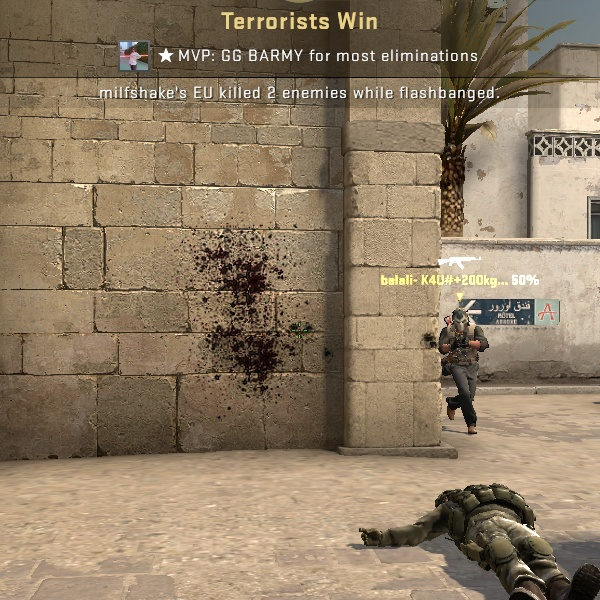t_body: (423, 299, 498, 436)
t_head: (444, 298, 477, 332)
